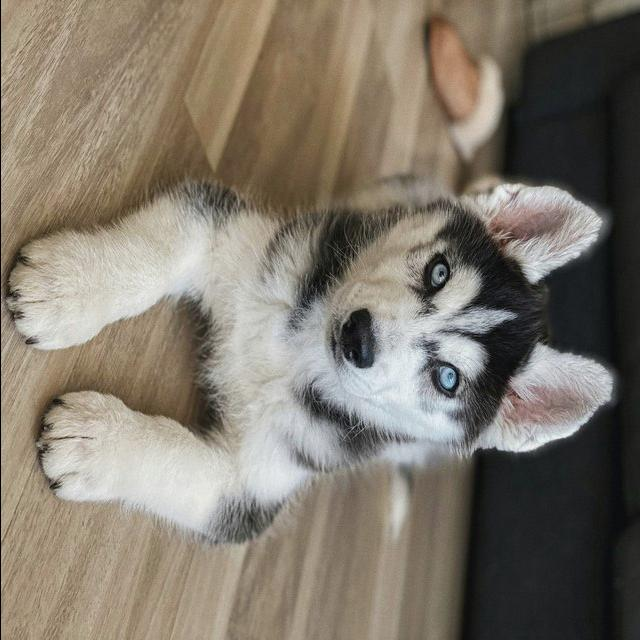husky: (5, 171, 615, 547)
